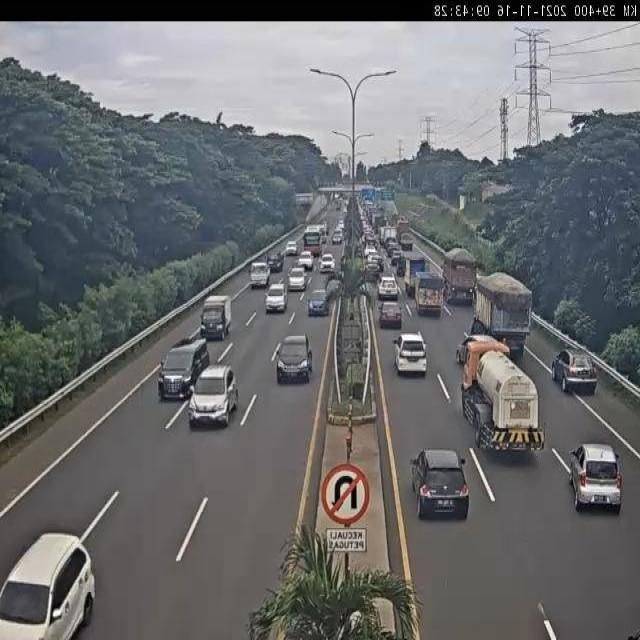Car: (0, 533, 94, 639), (410, 448, 469, 520), (568, 443, 622, 512), (158, 336, 210, 400), (188, 363, 239, 427), (273, 328, 314, 389), (551, 349, 597, 394), (443, 246, 478, 304), (393, 332, 428, 376), (264, 282, 288, 314), (307, 287, 331, 316), (378, 301, 402, 329), (249, 262, 271, 289), (377, 274, 399, 300), (288, 266, 308, 292), (267, 251, 285, 273), (320, 253, 336, 273), (298, 250, 314, 270), (365, 258, 381, 276), (399, 232, 413, 251), (390, 248, 402, 267), (285, 240, 298, 256), (332, 231, 342, 244)
Truck: (456, 332, 545, 454), (476, 272, 532, 354), (200, 293, 233, 340), (413, 268, 443, 316)
